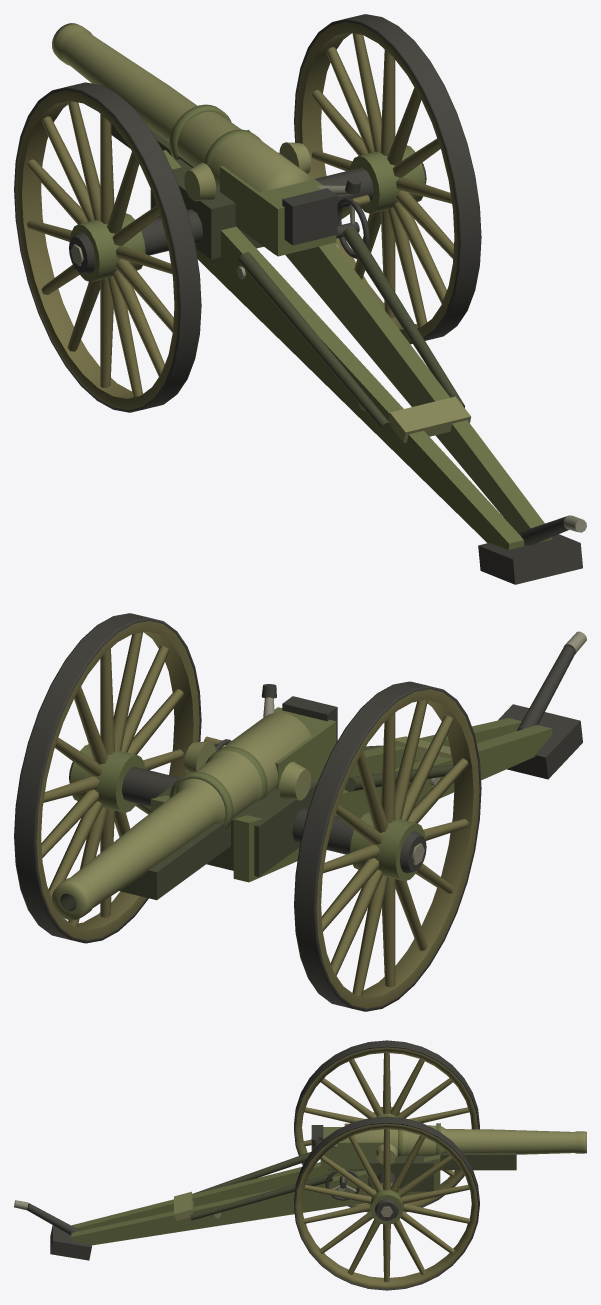
Rendered from field-gun-75.glb.
The picture shows the model from 3 angles, top to bottom: view 1: azimuth 30°, elevation 25°; view 2: azimuth 150°, elevation 25°; view 3: azimuth 270°, elevation 25°; orthographic projection. The views are drawn at different scales.
Visible parts, largest first — view 1: FieldGun, Barrel, Elevation; view 2: FieldGun, Barrel, Elevation; view 3: FieldGun, Barrel, Elevation.
Boxes of the visible parts, x1,y1,x2,y2 form: FieldGun: [14, 14, 586, 584]; Barrel: [52, 23, 311, 192]; Elevation: [111, 104, 360, 256]; FieldGun: [14, 613, 586, 1011]; Barrel: [52, 712, 311, 920]; Elevation: [60, 684, 337, 911]; FieldGun: [14, 1040, 479, 1290]; Barrel: [344, 1123, 586, 1156]; Elevation: [311, 1123, 516, 1170].
Bounding box in the file's own units: 1.57 × 1.33 × 4.07.
